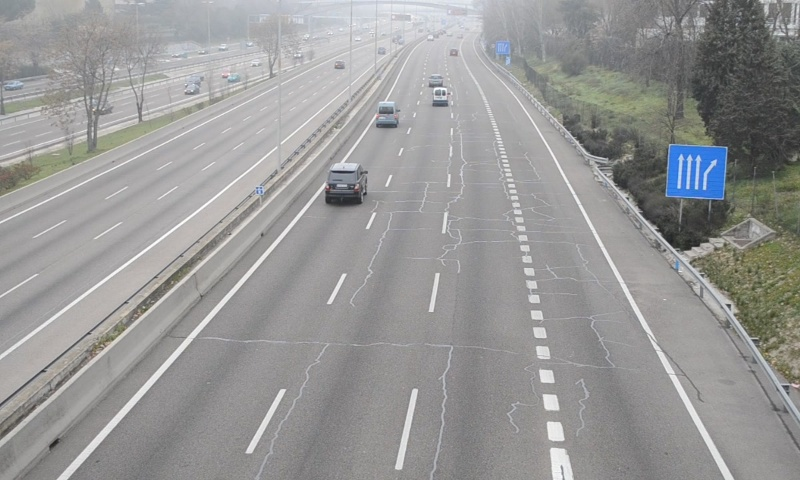car: (324, 163, 365, 198)
van: (376, 101, 398, 126), (432, 85, 449, 108)
